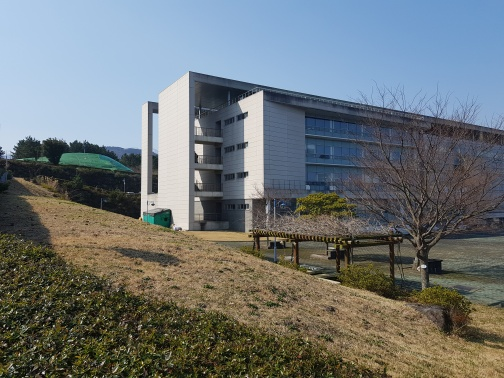Engineering College Building 4: (144, 94, 499, 222), (265, 84, 499, 199), (143, 77, 255, 232)
